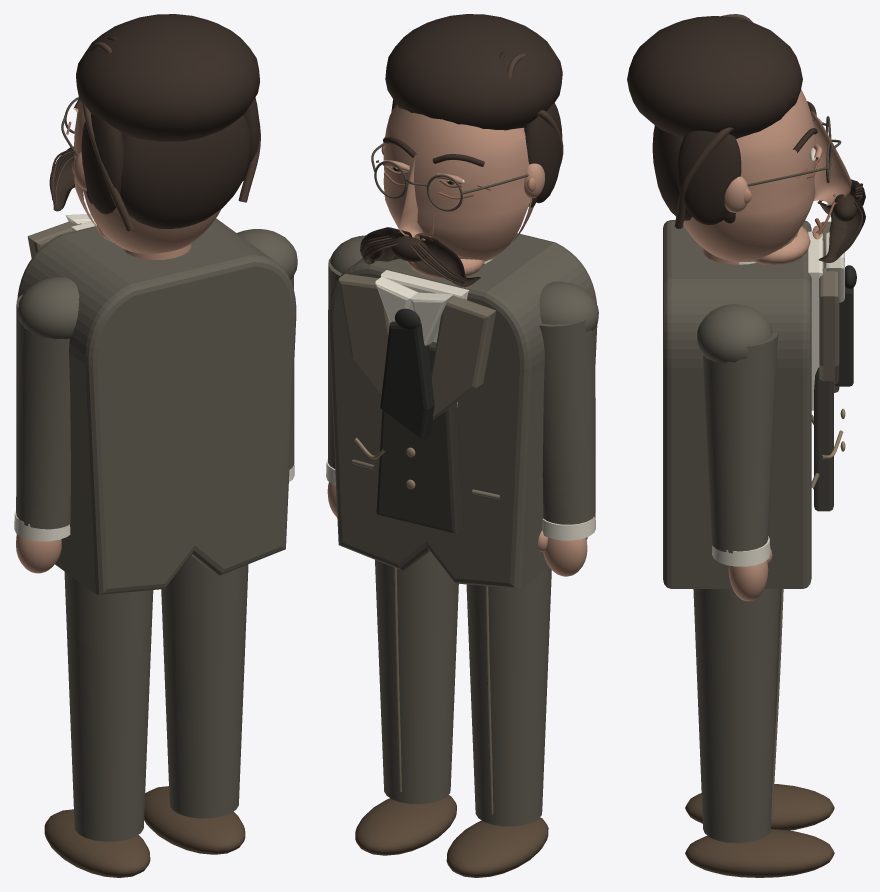
File: nietzsche.glb
The picture shows the model from 3 angles, left to right: view 1: azimuth 30°, elevation 25°; view 2: azimuth 150°, elevation 25°; view 3: azimuth 270°, elevation 25°; orthographic projection. The views are drawn at different scales.
Parts seen in each view (by area): view 1: nietzsche-StandingPose-0, nietzsche-StandingPose-11, nietzsche-StandingPose-14, nietzsche-StandingPose-1, nietzsche-StandingPose-13, nietzsche-StandingPose-2, nietzsche-StandingPose-4; view 2: nietzsche-StandingPose-0, nietzsche-StandingPose-11, nietzsche-StandingPose-1, nietzsche-StandingPose-4, nietzsche-StandingPose-14, nietzsche-StandingPose-3, nietzsche-StandingPose-5, nietzsche-StandingPose-2, nietzsche-StandingPose-13, nietzsche-StandingPose-12; view 3: nietzsche-StandingPose-0, nietzsche-StandingPose-11, nietzsche-StandingPose-1, nietzsche-StandingPose-14, nietzsche-StandingPose-4, nietzsche-StandingPose-2, nietzsche-StandingPose-3, nietzsche-StandingPose-5, nietzsche-StandingPose-13, nietzsche-StandingPose-12.
Boxes of the visible parts, x1,y1,x2,y2 form: nietzsche-StandingPose-0: (16, 218, 297, 841); nietzsche-StandingPose-11: (49, 14, 259, 228); nietzsche-StandingPose-14: (44, 786, 245, 877); nietzsche-StandingPose-1: (16, 102, 221, 573); nietzsche-StandingPose-13: (52, 42, 260, 231); nietzsche-StandingPose-2: (14, 214, 294, 541); nietzsche-StandingPose-4: (27, 221, 81, 258); nietzsche-StandingPose-0: (328, 233, 598, 826); nietzsche-StandingPose-11: (360, 14, 562, 287); nietzsche-StandingPose-1: (327, 105, 587, 576); nietzsche-StandingPose-4: (339, 274, 499, 814); nietzsche-StandingPose-14: (355, 795, 548, 877); nietzsche-StandingPose-3: (376, 342, 463, 533); nietzsche-StandingPose-5: (380, 167, 451, 439); nietzsche-StandingPose-2: (326, 259, 595, 540); nietzsche-StandingPose-13: (362, 53, 563, 285); nietzsche-StandingPose-12: (371, 143, 528, 211); nietzsche-StandingPose-0: (663, 220, 811, 842); nietzsche-StandingPose-11: (627, 16, 865, 262); nietzsche-StandingPose-1: (683, 89, 851, 601); nietzsche-StandingPose-14: (685, 784, 834, 877); nietzsche-StandingPose-4: (771, 221, 839, 818); nietzsche-StandingPose-2: (712, 231, 844, 566); nietzsche-StandingPose-3: (814, 367, 833, 511); nietzsche-StandingPose-5: (835, 265, 856, 386); nietzsche-StandingPose-13: (674, 14, 862, 258); nietzsche-StandingPose-12: (747, 116, 841, 186).
Size of what is drawn, in the model's own units: 0.6401 by 1.89 by 0.5.
